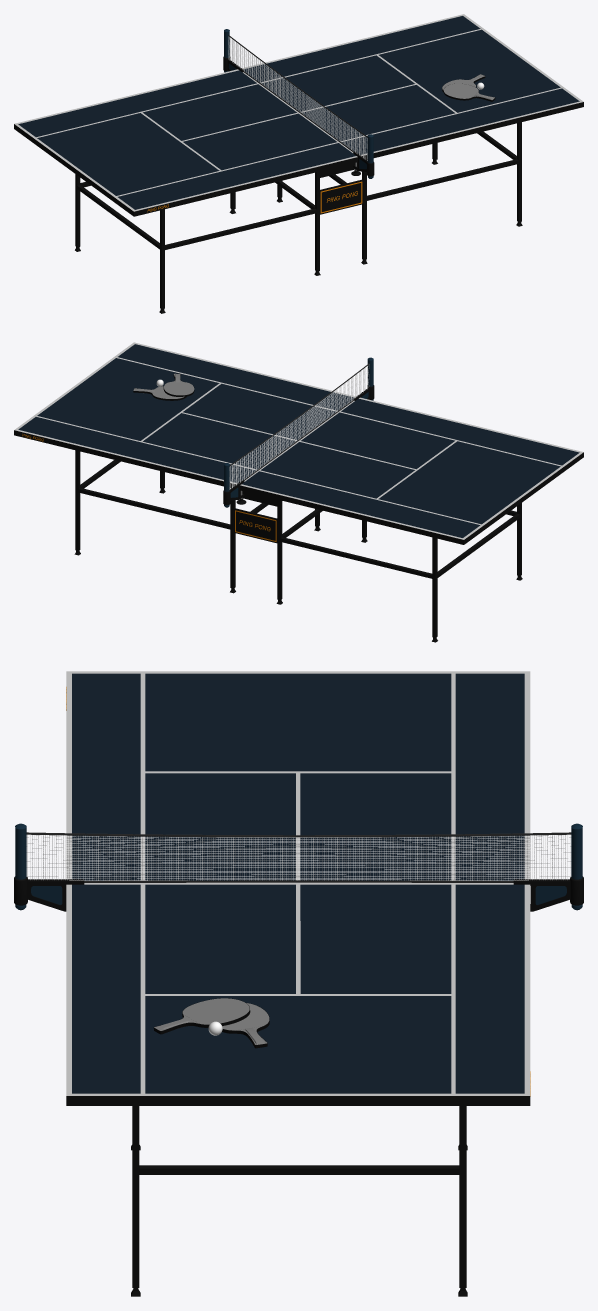
Rendered from table_2.FBX.
3 renders of one model, top to bottom at view 1: azimuth 30°, elevation 25°; view 2: azimuth 150°, elevation 25°; view 3: azimuth 270°, elevation 25°, orthographic. The views are drawn at different scales.
Parts seen in each view (by area): view 1: Plane004, Box004, Shape001, Line006, Line010; view 2: Plane004, Box004, Shape001, Line006, Line010; view 3: Plane004, Shape001, Box004, Line006, Line010, Shape002, Shape003, Line009.
Boxes of the visible parts, x1,y1,x2,y2 form: Plane004: (14, 14, 583, 216); Box004: (75, 122, 522, 313); Shape001: (228, 36, 367, 160); Line006: (223, 29, 374, 178); Line010: (443, 83, 495, 101); Plane004: (14, 342, 583, 544); Box004: (74, 450, 522, 642); Shape001: (229, 366, 368, 489); Line006: (223, 357, 374, 507); Line010: (163, 373, 194, 396); Plane004: (66, 671, 530, 1105); Shape001: (27, 835, 570, 880); Box004: (131, 1106, 467, 1296); Line006: (14, 823, 583, 911); Line010: (153, 998, 250, 1034); Shape002: (26, 832, 571, 837); Shape003: (84, 880, 513, 882); Line009: (222, 1003, 269, 1048).
Bounding box in the file's own units: 276 × 91.32 × 157.
